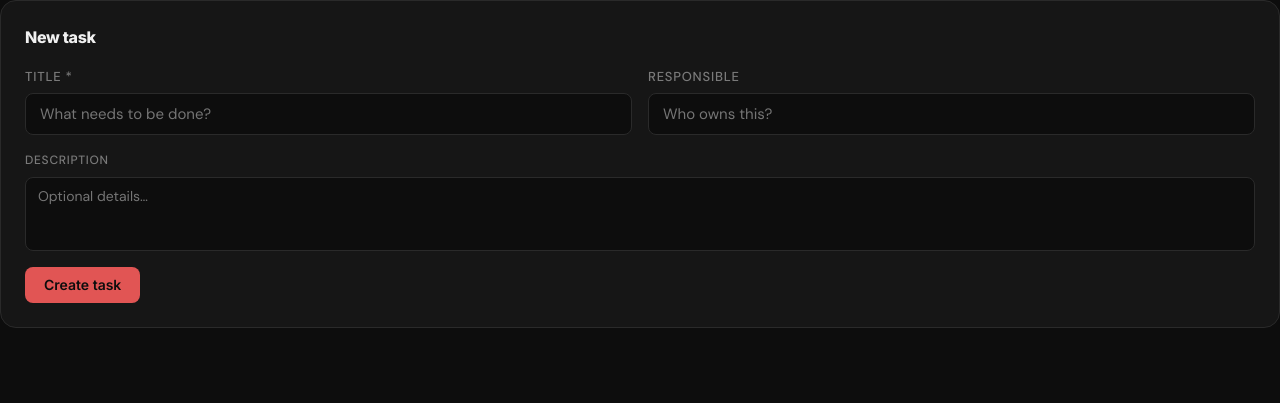
TaskForm › shows API error message on failure
Step 1. Type "My task" into the field labelled "Title *" → point(328, 114), box [25, 93, 632, 135]
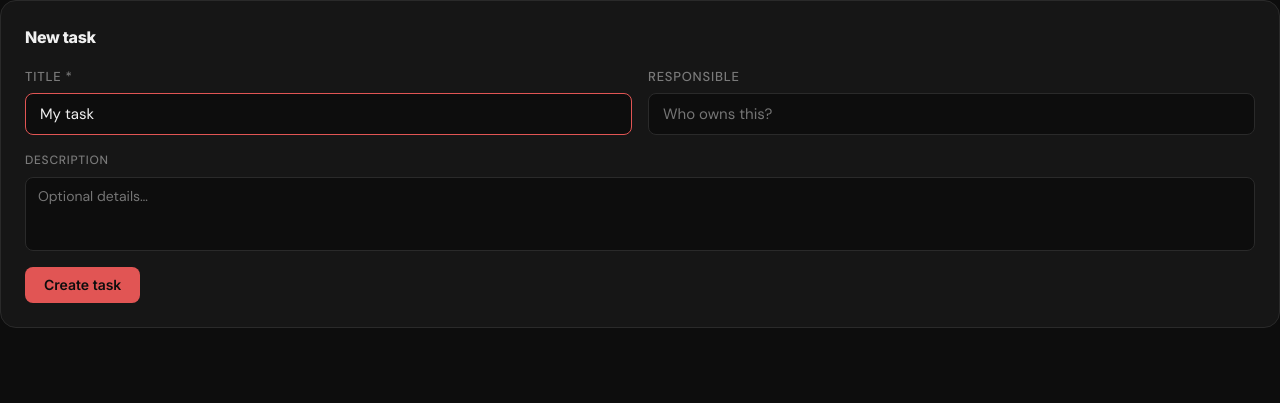
Step 2. Click the button "Create task" → point(83, 285), box [25, 267, 140, 303]
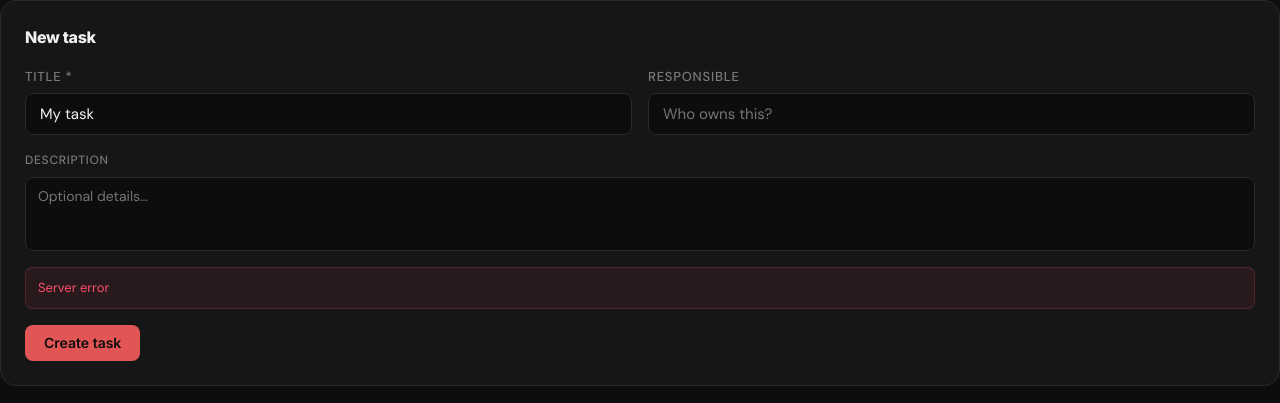
Result: the text "Server error" is shown at [25, 267, 1255, 309]
